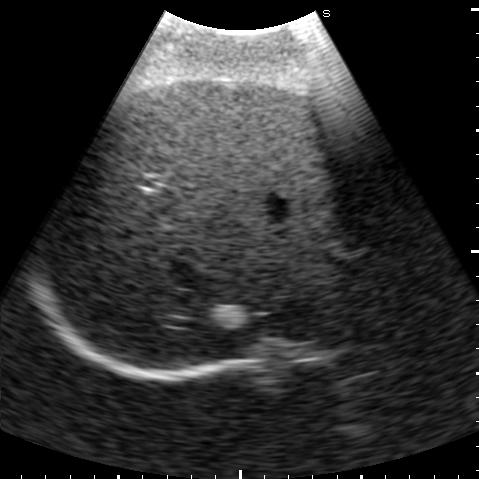S5: (119, 79, 325, 189)
S7: (42, 152, 167, 320)
S8: (142, 162, 360, 347)
Tumor: (213, 304, 248, 330)
